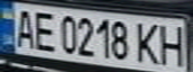0: (54, 12, 78, 55)
1: (93, 16, 112, 60)
2: (75, 15, 96, 57)
8: (109, 18, 133, 62)
A: (9, 6, 39, 49)
E: (30, 8, 57, 52)
H: (154, 21, 190, 68)
K: (133, 19, 163, 65)
